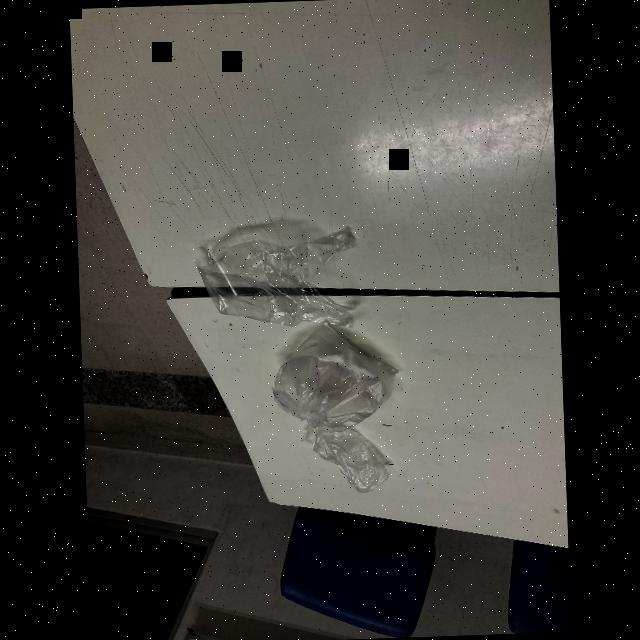plastic_bag: (193, 228, 390, 338), (262, 326, 408, 435)
scrap_plastic: (295, 425, 393, 496)
